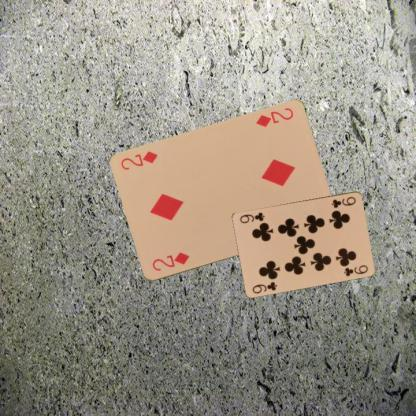2d: (253, 105, 295, 129), (149, 250, 191, 272)
9c: (249, 279, 278, 295), (329, 194, 357, 209)
